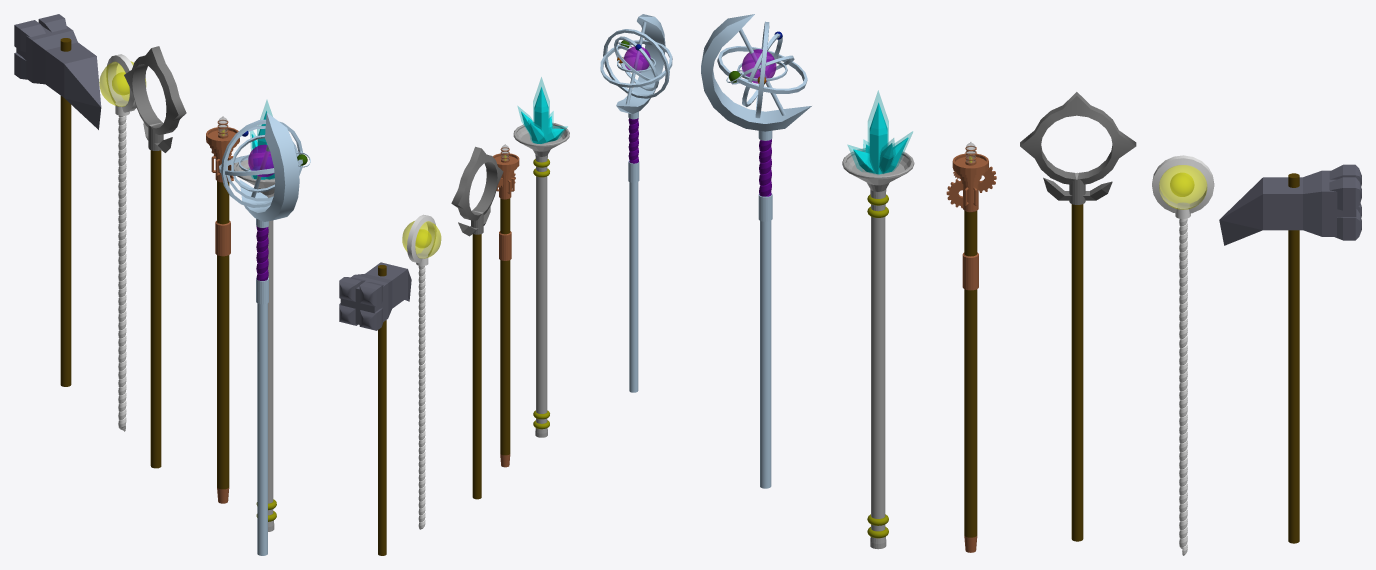
Rendered from Wizard Staves.fbx.
3 views of the same model, side by side, from view 1: azimuth 30°, elevation 25°; view 2: azimuth 150°, elevation 25°; view 3: azimuth 270°, elevation 25° (orthographic). The views are drawn at different scales.
Parts seen in each view (by area): view 1: pCylinder2, pCube1, pCylinder8, pasted__pasted__pCylinder8, pasted__pCylinder9, pPipe4, pPipe2, pCylinder1, pSphere2, pasted__pPipe8, pPipe3, polySurface4 (+5 smaller); view 2: pCylinder1, pCylinder2, pCylinder8, pasted__pCylinder9, pasted__pasted__pCylinder8, pCube1, pPipe2, pPipe4, pSphere2, pasted__pCube2 (×2), pasted__pPipe8, pPipe3 (+7 smaller); view 3: pCylinder1, pCylinder2, pCube1, pCylinder8, pasted__pasted__pCylinder8, pasted__pCylinder9, pPipe2, pPipe4, pSphere2, pPipe3, pasted__pPrism1, pasted__pPipe9 (+2 smaller).
Part boxes in pixels (x1,y1,x2,y2): pCylinder2: [206, 127, 239, 503]; pCube1: [16, 25, 101, 129]; pCylinder8: [148, 122, 163, 468]; pasted__pasted__pCylinder8: [60, 38, 71, 386]; pasted__pCylinder9: [256, 218, 268, 555]; pPipe4: [239, 113, 299, 221]; pPipe2: [124, 46, 186, 134]; pCylinder1: [234, 159, 275, 531]; pSphere2: [99, 61, 146, 106]; pasted__pPipe8: [221, 119, 302, 207]; pPipe3: [106, 54, 136, 112]; polySurface4: [248, 145, 273, 197]; pCylinder1: [513, 122, 569, 437]; pCylinder2: [493, 153, 519, 467]; pCylinder8: [471, 210, 483, 499]; pasted__pCylinder9: [628, 111, 639, 392]; pasted__pasted__pCylinder8: [378, 265, 386, 555]; pCube1: [340, 262, 411, 324]; pPipe2: [451, 146, 503, 220]; pPipe4: [616, 14, 665, 114]; pSphere2: [402, 221, 441, 258]; pasted__pCube2 (×2): [339, 277, 383, 330]; pasted__pPipe8: [603, 29, 669, 98]; pPipe3: [407, 214, 436, 263]; pCylinder1: [842, 148, 914, 549]; pCylinder2: [952, 153, 988, 552]; pCube1: [1219, 170, 1356, 245]; pCylinder8: [1069, 172, 1085, 541]; pasted__pasted__pCylinder8: [1288, 173, 1299, 543]; pasted__pCylinder9: [758, 130, 772, 488]; pPipe2: [1020, 92, 1136, 184]; pPipe4: [701, 14, 811, 131]; pSphere2: [1159, 165, 1206, 209]; pPipe3: [1152, 155, 1214, 213]; pasted__pPrism1: [868, 90, 888, 174]; pasted__pPipe9: [717, 46, 807, 93].
Size of the model in its own units: 6.27 by 22.5 by 26.37.
